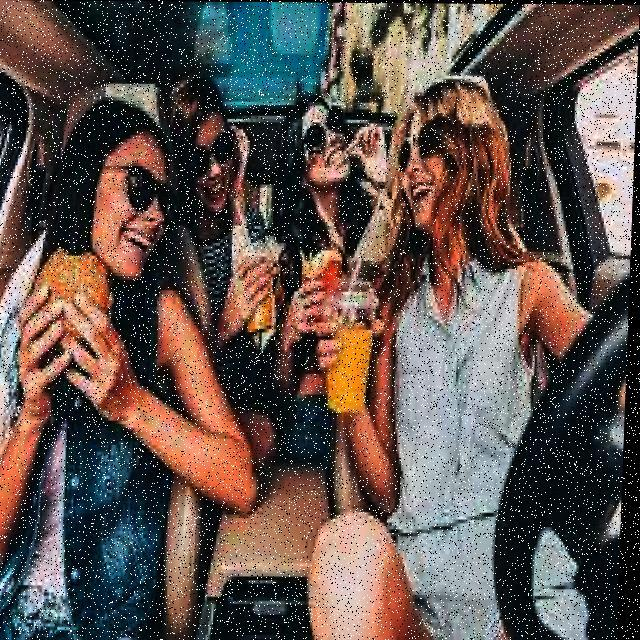noSeatbelt: (0, 251, 200, 640), (373, 234, 558, 520)
